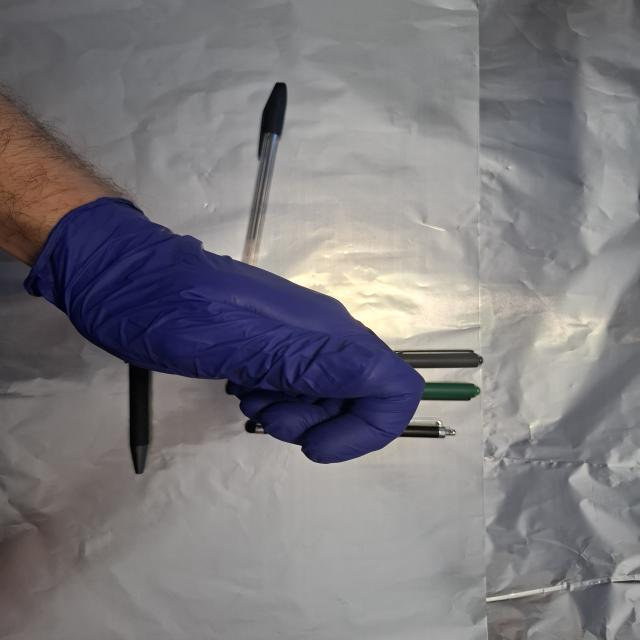glove_on: (25, 191, 429, 467)
